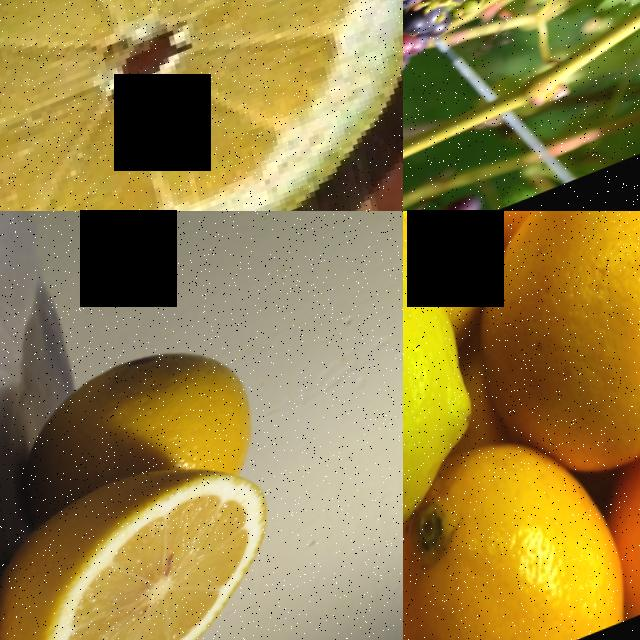grapes: (403, 0, 565, 89), (403, 3, 474, 155)
lemon: (0, 0, 403, 211), (0, 445, 308, 640), (10, 320, 272, 523), (448, 211, 640, 486), (403, 438, 640, 640), (403, 211, 509, 618), (597, 394, 640, 633)
